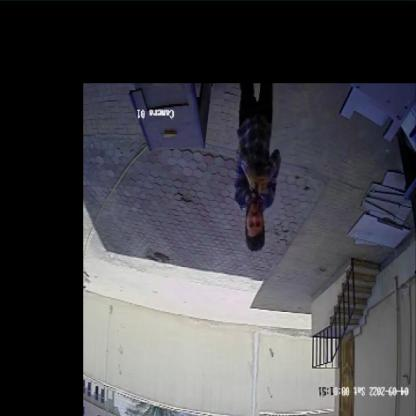handgun: (244, 166, 270, 216)
